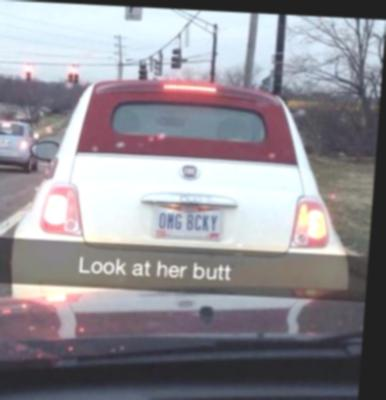License_Plate: (150, 204, 225, 242)
